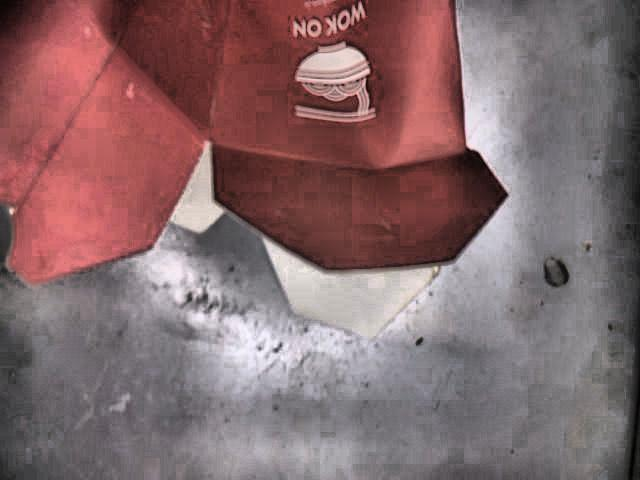Paper: (1, 1, 510, 341)
